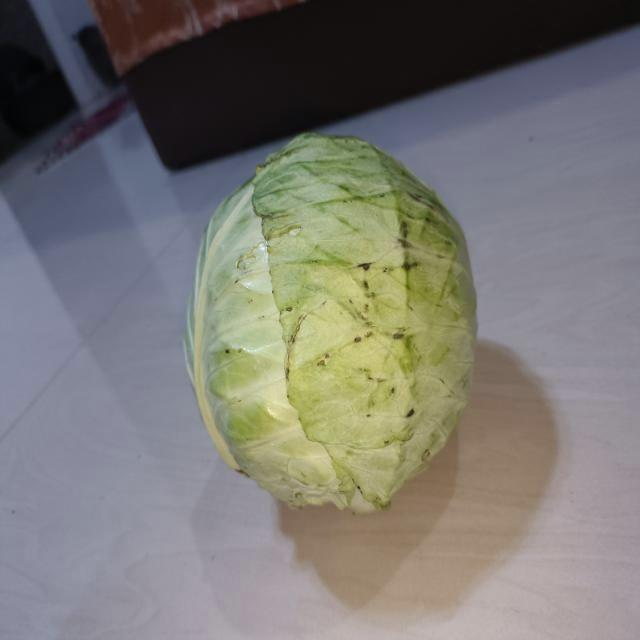cabbage: (186, 125, 479, 523)
